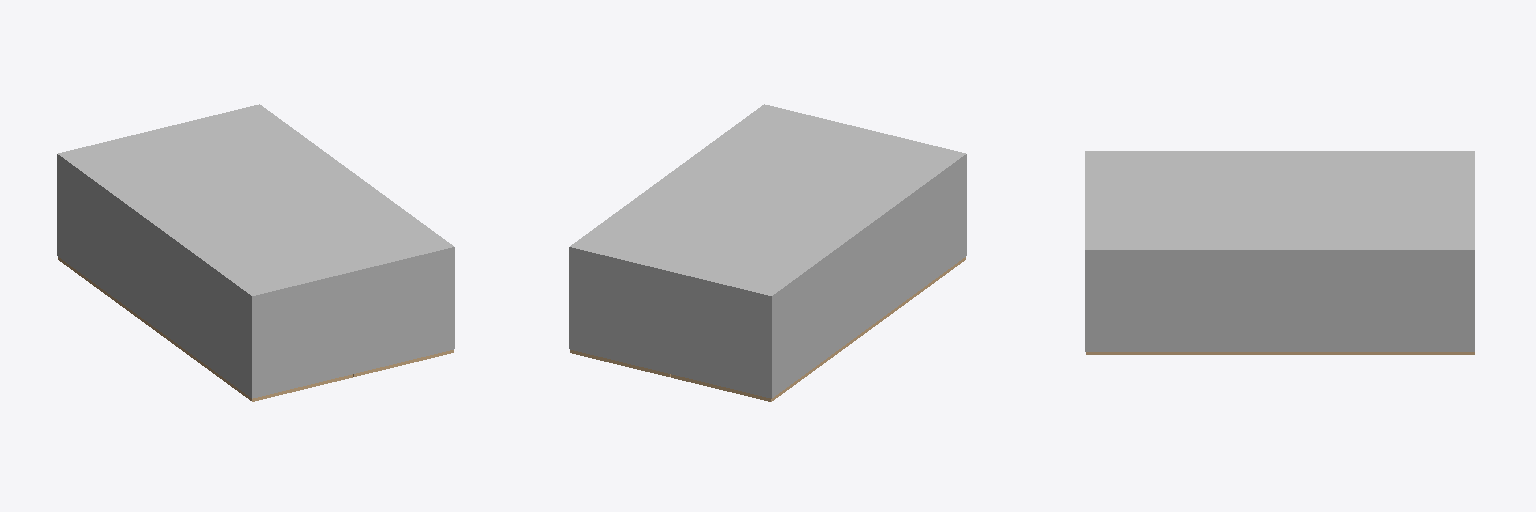
The model's file is tinker.obj.
The picture shows the model from 3 angles: view 1: azimuth 30°, elevation 25°; view 2: azimuth 150°, elevation 25°; view 3: azimuth 270°, elevation 25°; orthographic projection.
Visible parts, largest first — view 1: obj_0; view 2: obj_0; view 3: obj_0.
Boxes of the visible parts, x1,y1,x2,y2 form: obj_0: [57, 104, 454, 401]; obj_0: [569, 104, 966, 401]; obj_0: [1085, 151, 1474, 354].
Size of the model in its own units: 120 by 63.1 by 200.